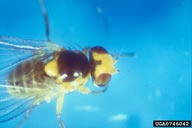Trifoli: (1, 20, 113, 124)
